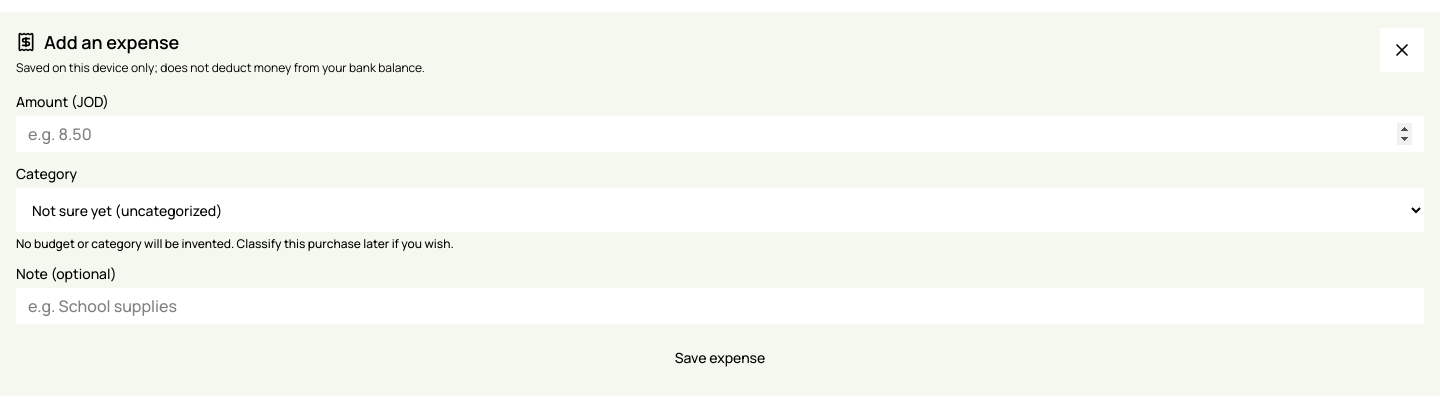
Scenario: fast expense entry › records one uncategorized real expense without inventing a zero budget
This screenshot has width=1440, height=413.
Expected: the button "Save expense" is shown, [16,336,1424,380]
Expected: the dropdown labelled "Category" shows "Not sure yet (uncategorized)", [16,188,1424,232]
Type "17.50" into the number field labelled "Amount (JOD)".
click(720, 134); type("17.50")  # box [16,116,1424,152]
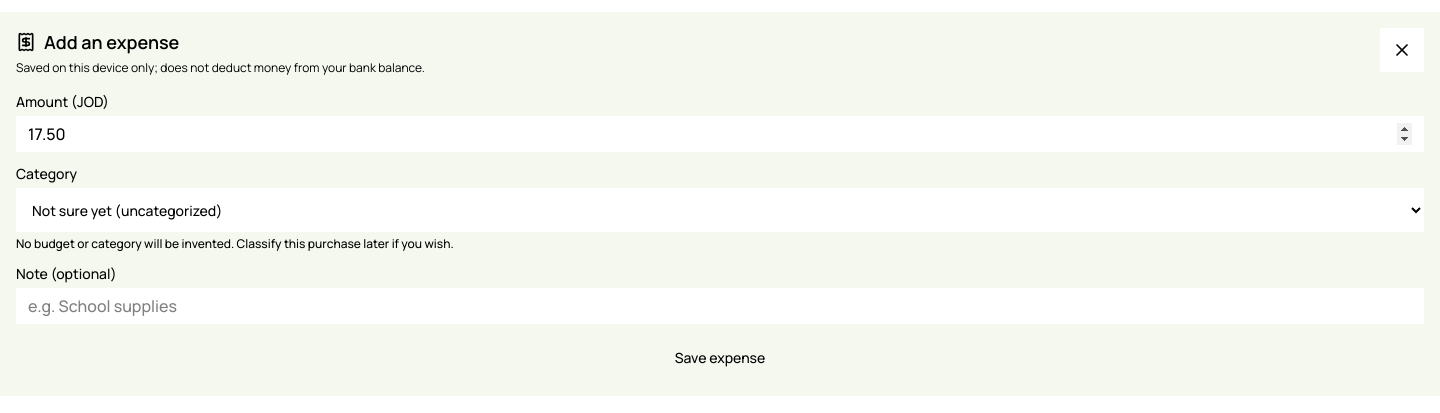
Click the button "Save expense".
click(720, 358)  # box [16,336,1424,380]
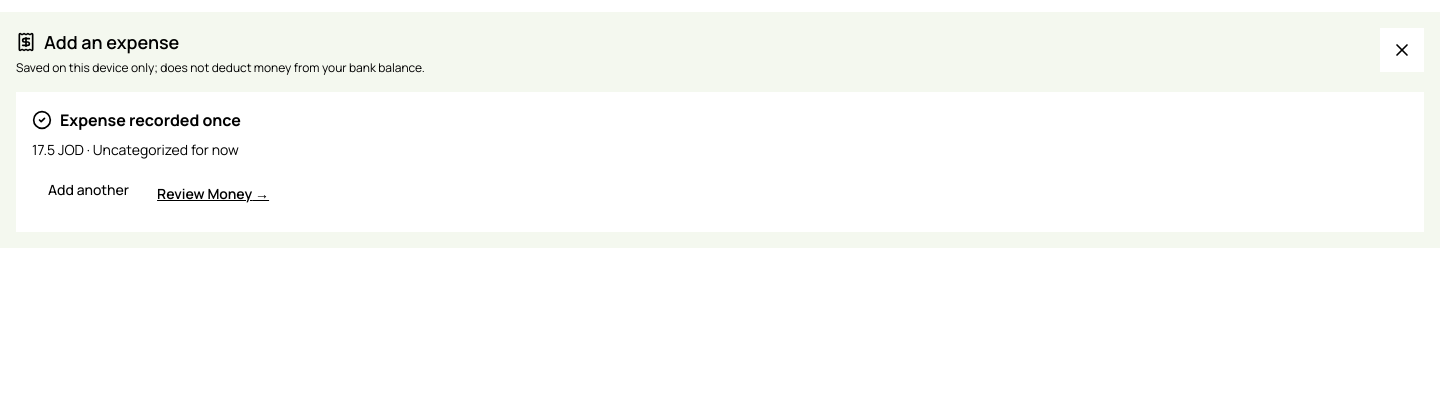
Now the text "Expense recorded once" is shown, box [60,108,241,132]
